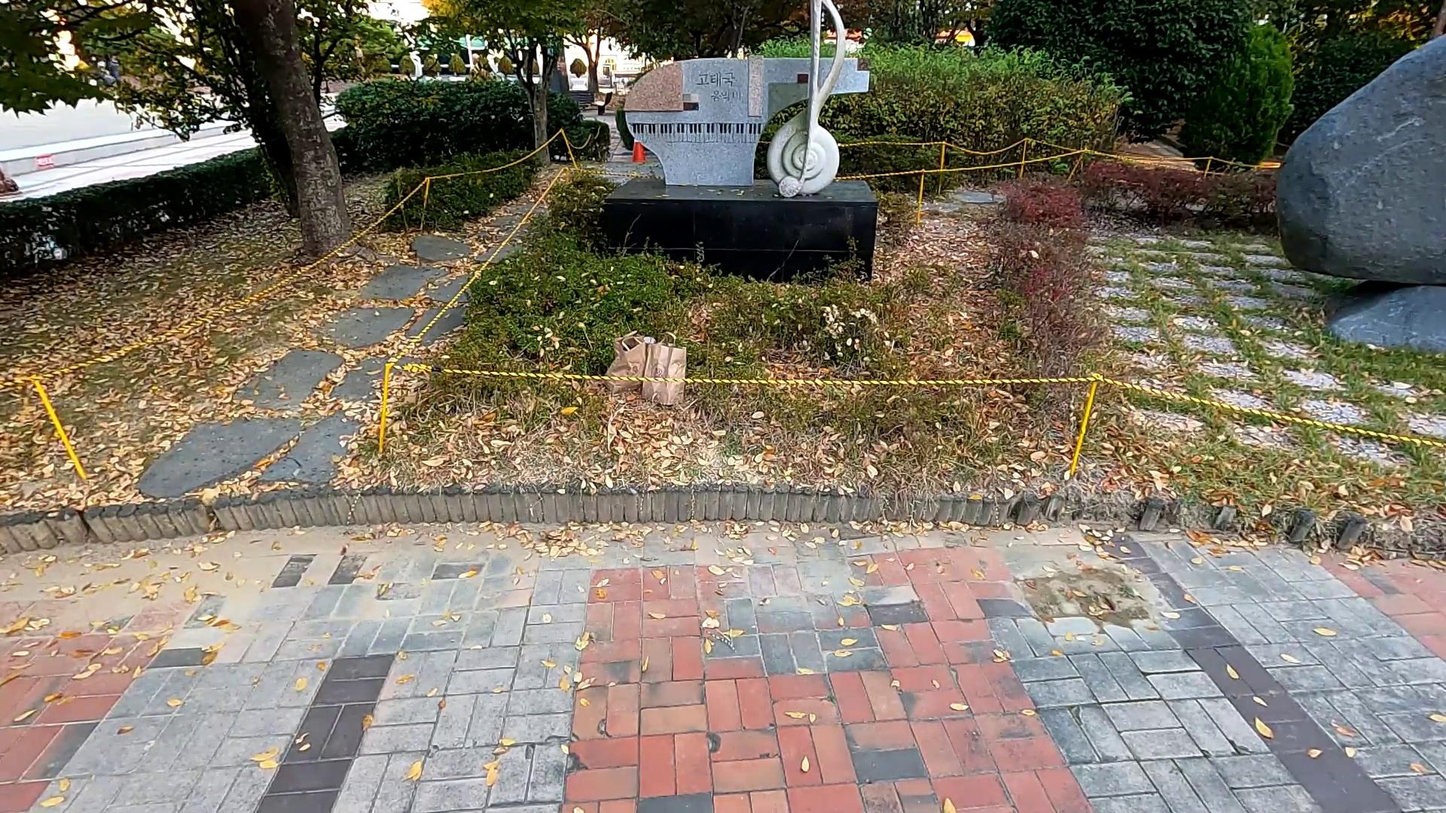trash: (642, 332, 686, 407), (605, 328, 647, 392)
